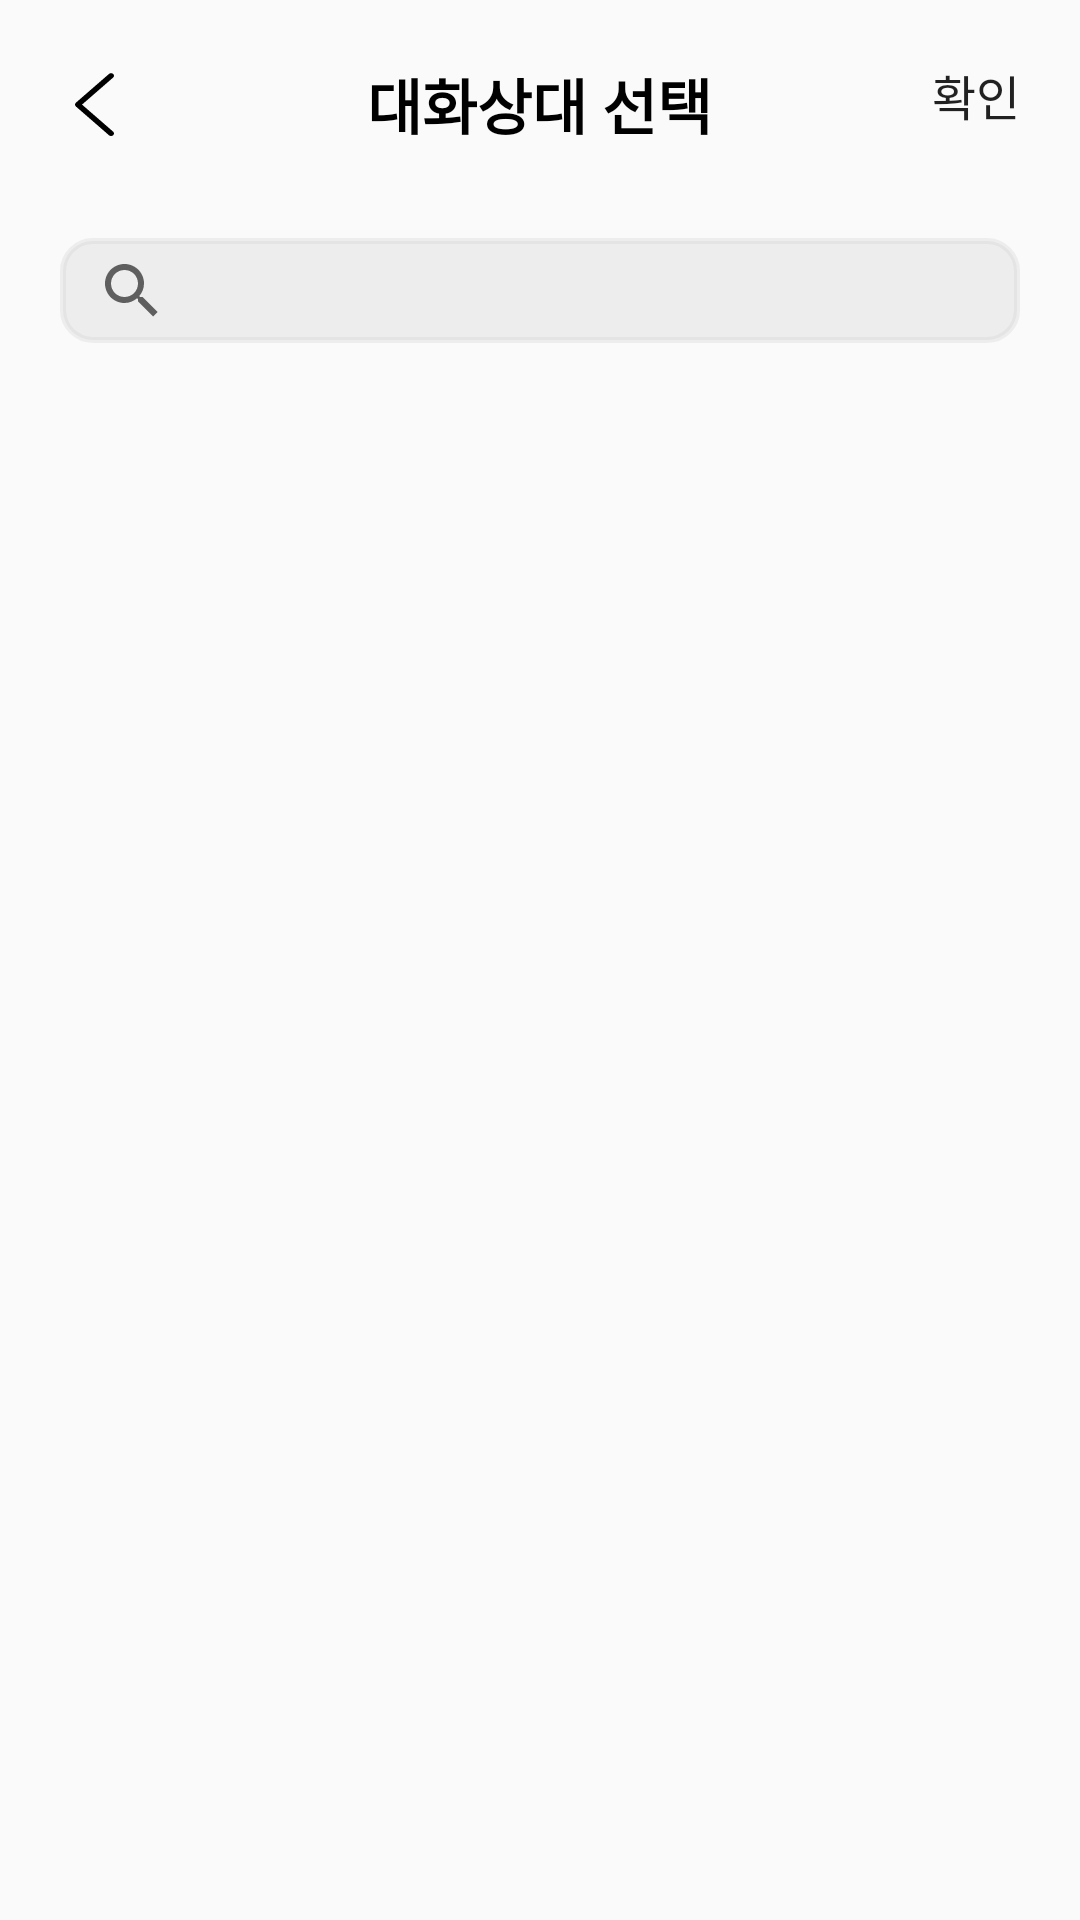

Where to tap for icons on this 1080*1920 app screen, as [x,y]:
before: [94,104]
